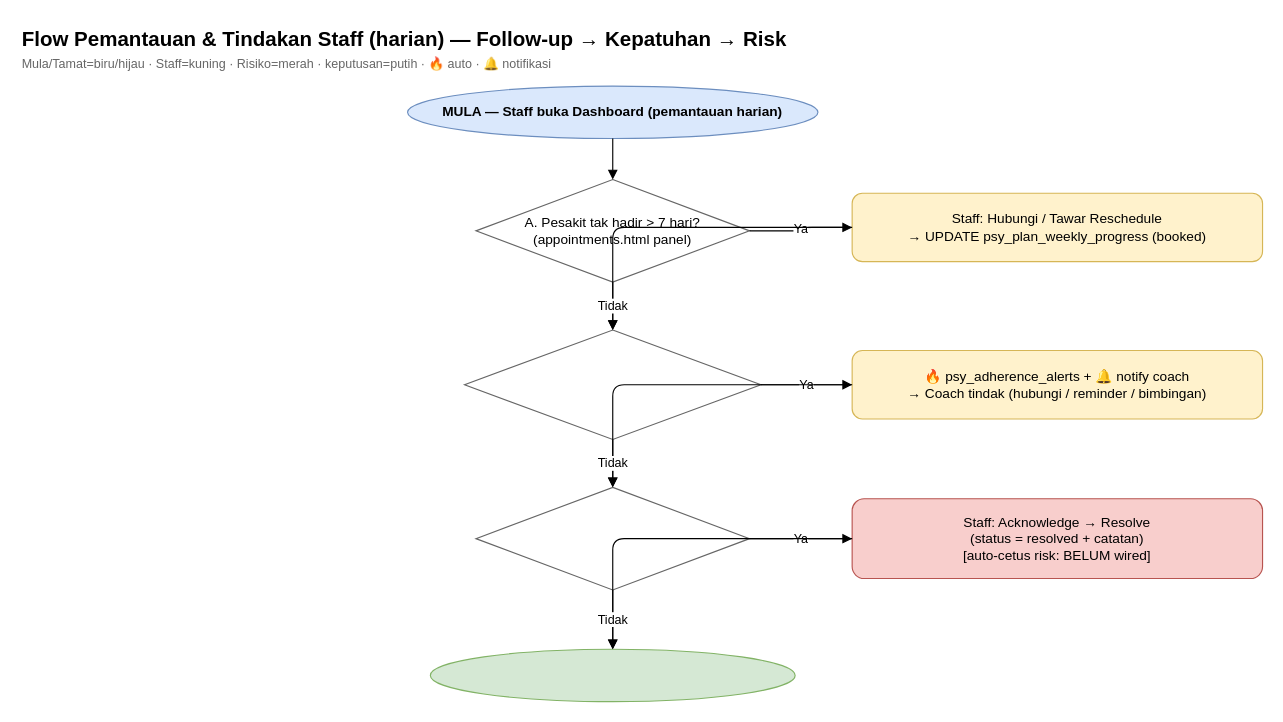
Image size: 1283x722. Some labels were removed from this diagram. Here are the shapes that lost their labels. From the top down, the centre of each, then its label:
the point at 612,384: B. Kepatuhan rendah? (check-in < 4/7 · madu kurang ≥ 4 hari · kelas Tidak Aktif)
the point at 612,538: C. Ada risk alert open? (risk.html · psy_risk_alerts)
the point at 612,675: TAMAT — Pemantauan harian selesai
